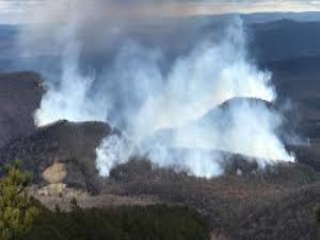smoke: (27, 34, 295, 176)
